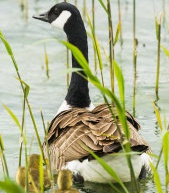goose: (31, 1, 151, 185)
